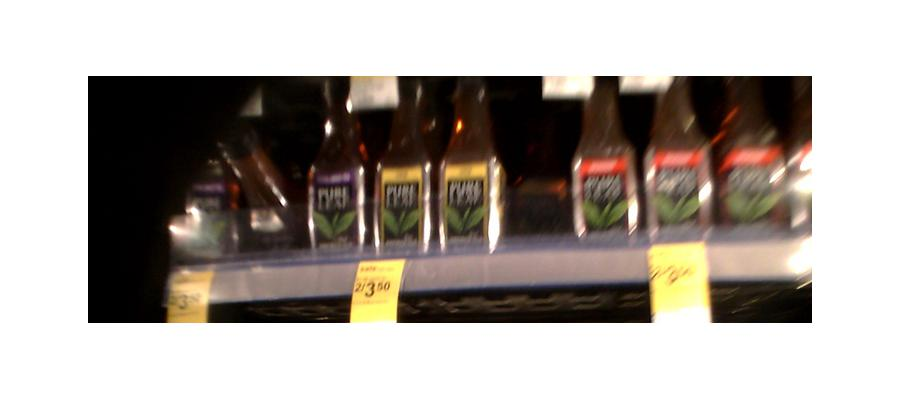bottle: (715, 88, 795, 231), (647, 77, 713, 243), (438, 79, 501, 252), (576, 74, 639, 237), (375, 77, 433, 245), (309, 80, 365, 248)
